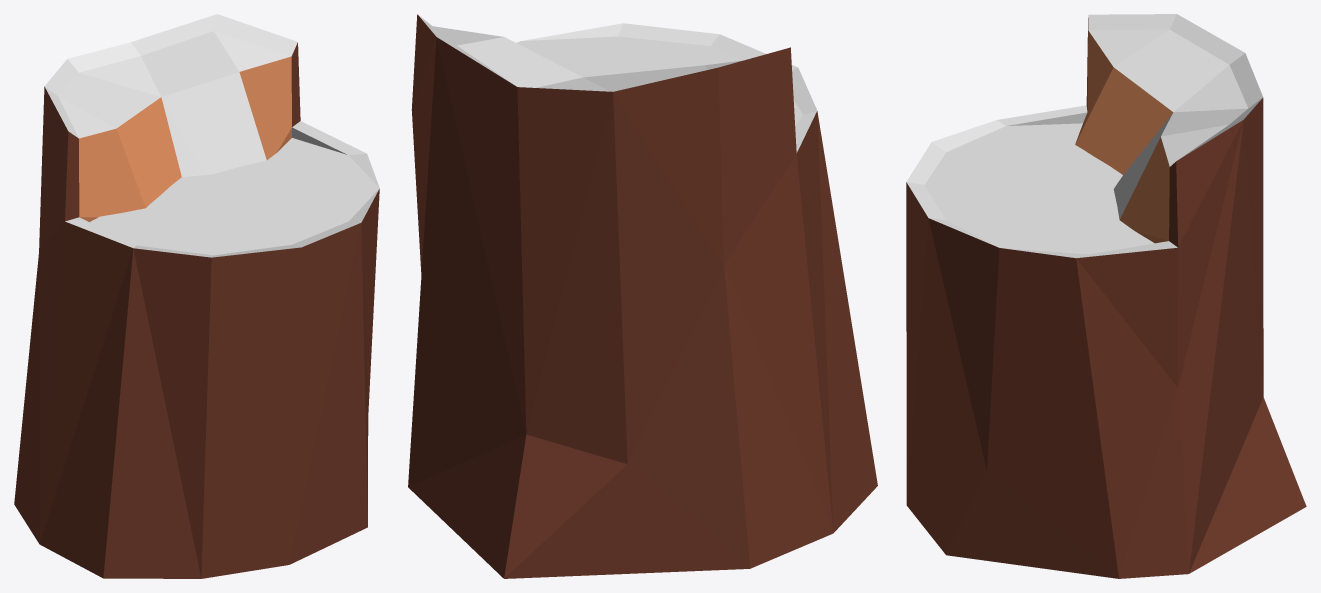
The model's file is pine_trunk_type_5_extra_LOD1.fbx.
3 views of the same model, side by side, from view 1: azimuth 30°, elevation 25°; view 2: azimuth 150°, elevation 25°; view 3: azimuth 270°, elevation 25° (orthographic). The views are drawn at different scales.
Parts seen in each view (by area): view 1: Cylinder.002; view 2: Cylinder.002; view 3: Cylinder.002.
Boxes of the visible parts, left/top/right/bottom form: Cylinder.002: left=14, top=14, right=379, bottom=578; Cylinder.002: left=408, top=14, right=877, bottom=578; Cylinder.002: left=906, top=14, right=1306, bottom=578.
Size of the model in its own units: 218 by 263 by 221.
